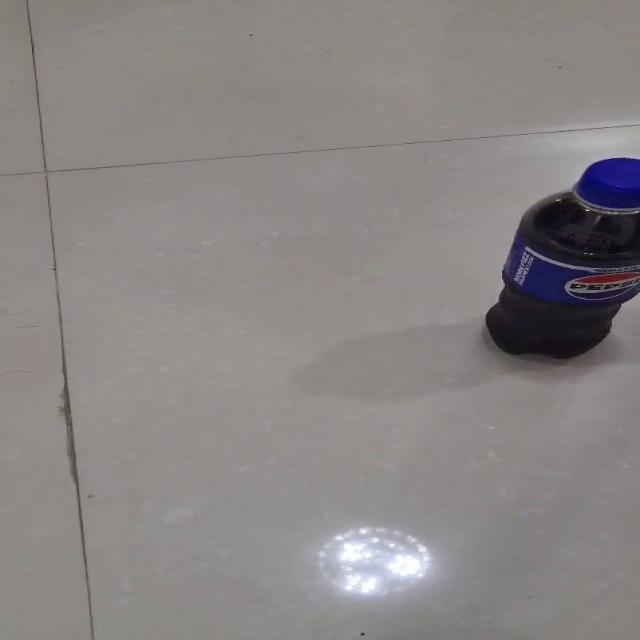plastic: (483, 156, 639, 359)
